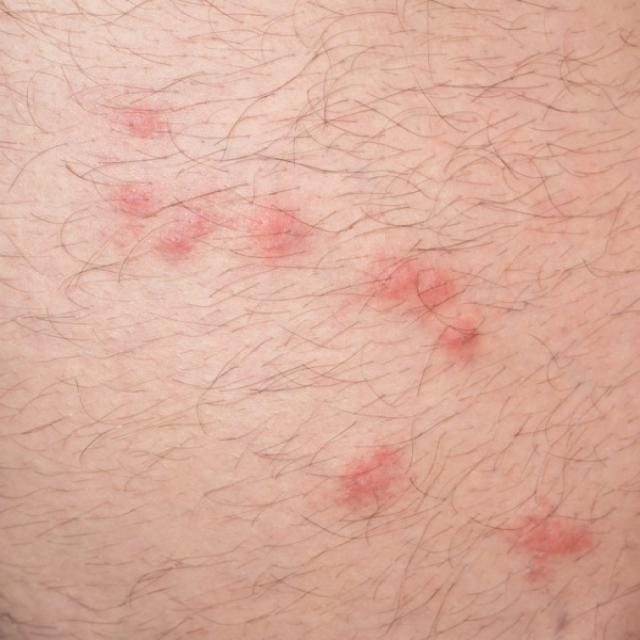kene: (64, 53, 619, 605)
